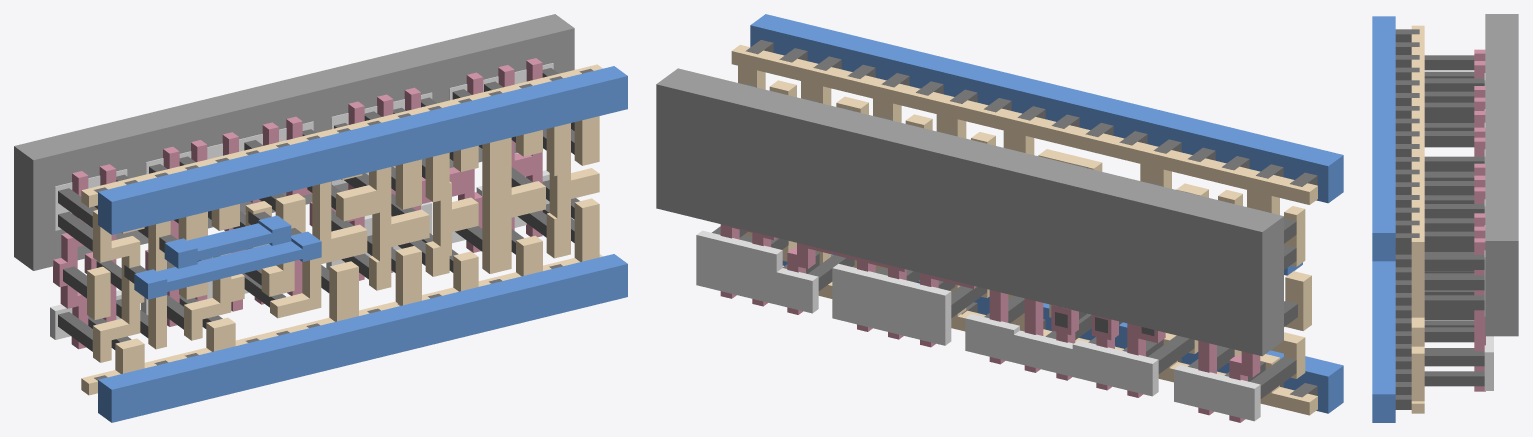
File: sky130_fd_sc_hd__dlxbn_2.gds.gltf
3 renders of one model, left to right at view 1: azimuth 30°, elevation 25°; view 2: azimuth 150°, elevation 25°; view 3: azimuth 270°, elevation 25°, orthographic. The views are drawn at different scales.
Visible parts, largest first — view 1: sky130_fd_sc_hd__dlxbn_2_met1, sky130_fd_sc_hd__dlxbn_2_li1, sky130_fd_sc_hd__dlxbn_2_nwell, sky130_fd_sc_hd__dlxbn_2_licon, sky130_fd_sc_hd__dlxbn_2_poly, sky130_fd_sc_hd__dlxbn_2_diff, sky130_fd_sc_hd__dlxbn_2_mcon; view 2: sky130_fd_sc_hd__dlxbn_2_nwell, sky130_fd_sc_hd__dlxbn_2_li1, sky130_fd_sc_hd__dlxbn_2_diff, sky130_fd_sc_hd__dlxbn_2_met1, sky130_fd_sc_hd__dlxbn_2_poly, sky130_fd_sc_hd__dlxbn_2_licon, sky130_fd_sc_hd__dlxbn_2_mcon; view 3: sky130_fd_sc_hd__dlxbn_2_licon, sky130_fd_sc_hd__dlxbn_2_nwell, sky130_fd_sc_hd__dlxbn_2_met1, sky130_fd_sc_hd__dlxbn_2_mcon, sky130_fd_sc_hd__dlxbn_2_li1, sky130_fd_sc_hd__dlxbn_2_poly, sky130_fd_sc_hd__dlxbn_2_diff.
Part boxes in pixels (left/top/right/bottom): sky130_fd_sc_hd__dlxbn_2_met1: left=98, top=66, right=627, bottom=422; sky130_fd_sc_hd__dlxbn_2_li1: left=81, top=64, right=602, bottom=395; sky130_fd_sc_hd__dlxbn_2_nwell: left=14, top=14, right=574, bottom=270; sky130_fd_sc_hd__dlxbn_2_licon: left=58, top=68, right=579, bottom=351; sky130_fd_sc_hd__dlxbn_2_poly: left=53, top=58, right=542, bottom=349; sky130_fd_sc_hd__dlxbn_2_diff: left=50, top=63, right=553, bottom=339; sky130_fd_sc_hd__dlxbn_2_mcon: left=94, top=68, right=593, bottom=380; sky130_fd_sc_hd__dlxbn_2_nwell: left=656, top=68, right=1283, bottom=356; sky130_fd_sc_hd__dlxbn_2_li1: left=731, top=44, right=1317, bottom=415; sky130_fd_sc_hd__dlxbn_2_diff: left=696, top=230, right=1260, bottom=421; sky130_fd_sc_hd__dlxbn_2_met1: left=750, top=14, right=1343, bottom=413; sky130_fd_sc_hd__dlxbn_2_poly: left=720, top=224, right=1260, bottom=422; sky130_fd_sc_hd__dlxbn_2_licon: left=712, top=83, right=1297, bottom=398; sky130_fd_sc_hd__dlxbn_2_mcon: left=745, top=40, right=1317, bottom=397; sky130_fd_sc_hd__dlxbn_2_licon: left=1424, top=55, right=1484, bottom=386; sky130_fd_sc_hd__dlxbn_2_nwell: left=1485, top=14, right=1518, bottom=336; sky130_fd_sc_hd__dlxbn_2_met1: left=1372, top=16, right=1395, bottom=422; sky130_fd_sc_hd__dlxbn_2_mcon: left=1395, top=29, right=1419, bottom=409; sky130_fd_sc_hd__dlxbn_2_li1: left=1411, top=25, right=1424, bottom=413; sky130_fd_sc_hd__dlxbn_2_poly: left=1474, top=49, right=1485, bottom=391; sky130_fd_sc_hd__dlxbn_2_diff: left=1484, top=73, right=1493, bottom=390.
Size of the model in its own units: 8.2 by 3.2 by 2.24.
